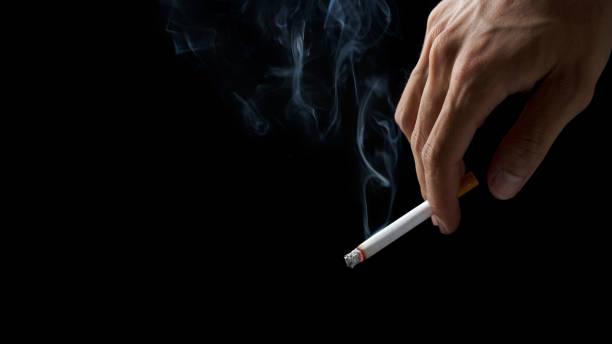cigarette: (342, 170, 480, 270)
